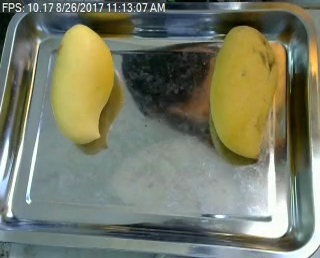Mango: (206, 26, 279, 161), (51, 19, 119, 147)
